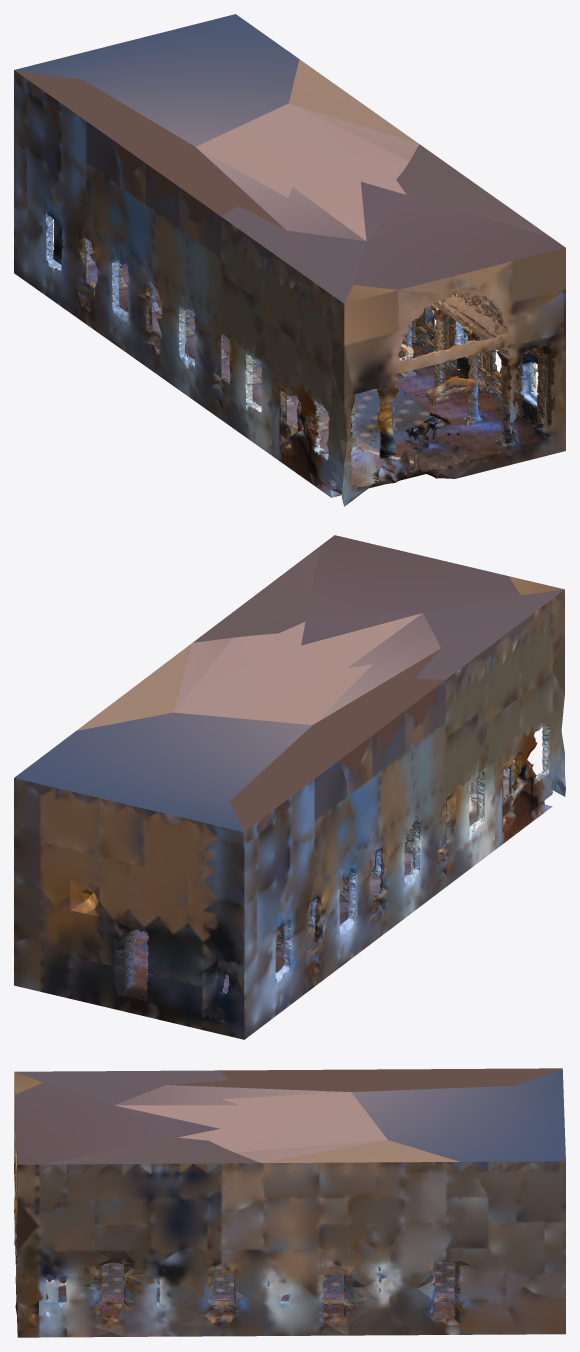
The model's file is balsal2_LOD0.fbx.
The picture shows the model from 3 angles, top to bottom: view 1: azimuth 30°, elevation 25°; view 2: azimuth 150°, elevation 25°; view 3: azimuth 270°, elevation 25°; orthographic projection. The views are drawn at different scales.
Parts seen in each view (by area): view 1: balsal2_LOD0; view 2: balsal2_LOD0; view 3: balsal2_LOD0.
Boxes of the visible parts, x1,y1,x2,y2 form: balsal2_LOD0: [14, 14, 565, 506]; balsal2_LOD0: [14, 535, 565, 1039]; balsal2_LOD0: [14, 1068, 565, 1337].
Size of the model in its own units: 42.06 by 14.54 by 17.47.
Materials: 1 (1 with a texture image).
